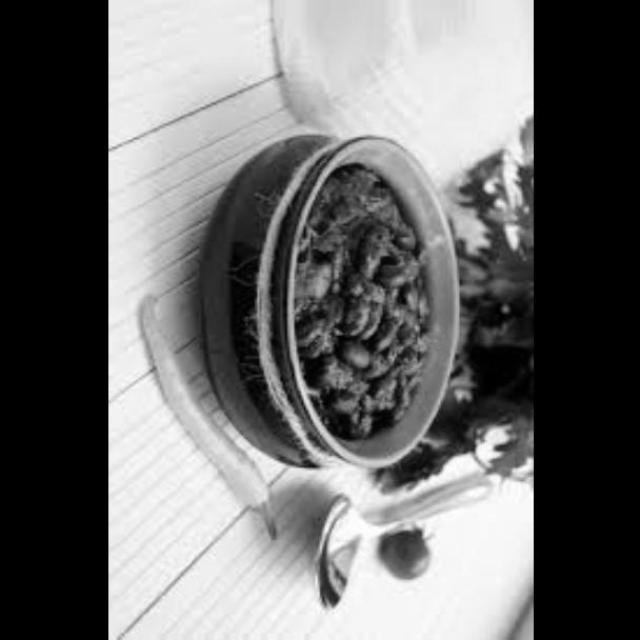ca chua: (376, 519, 440, 588)
ot cay: (138, 289, 289, 551)
